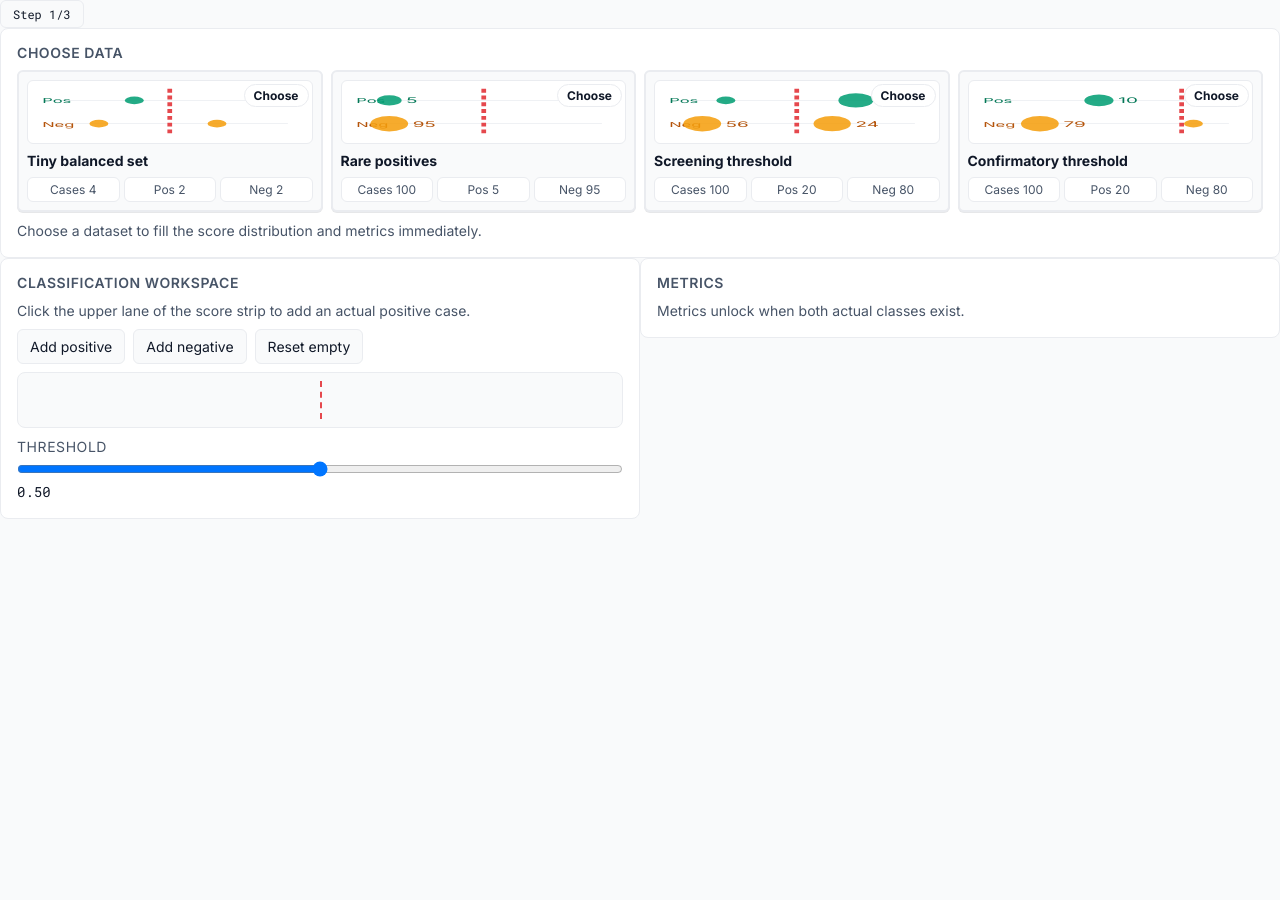
Test case: ClassificationPlayground › loads a row of presets and marks the active preset
Click the button "Choose Pos Neg 5 95 Rare positives Cases 100 Pos 5 Neg 95": (483, 141) x1=330 y1=70 x2=636 y2=212
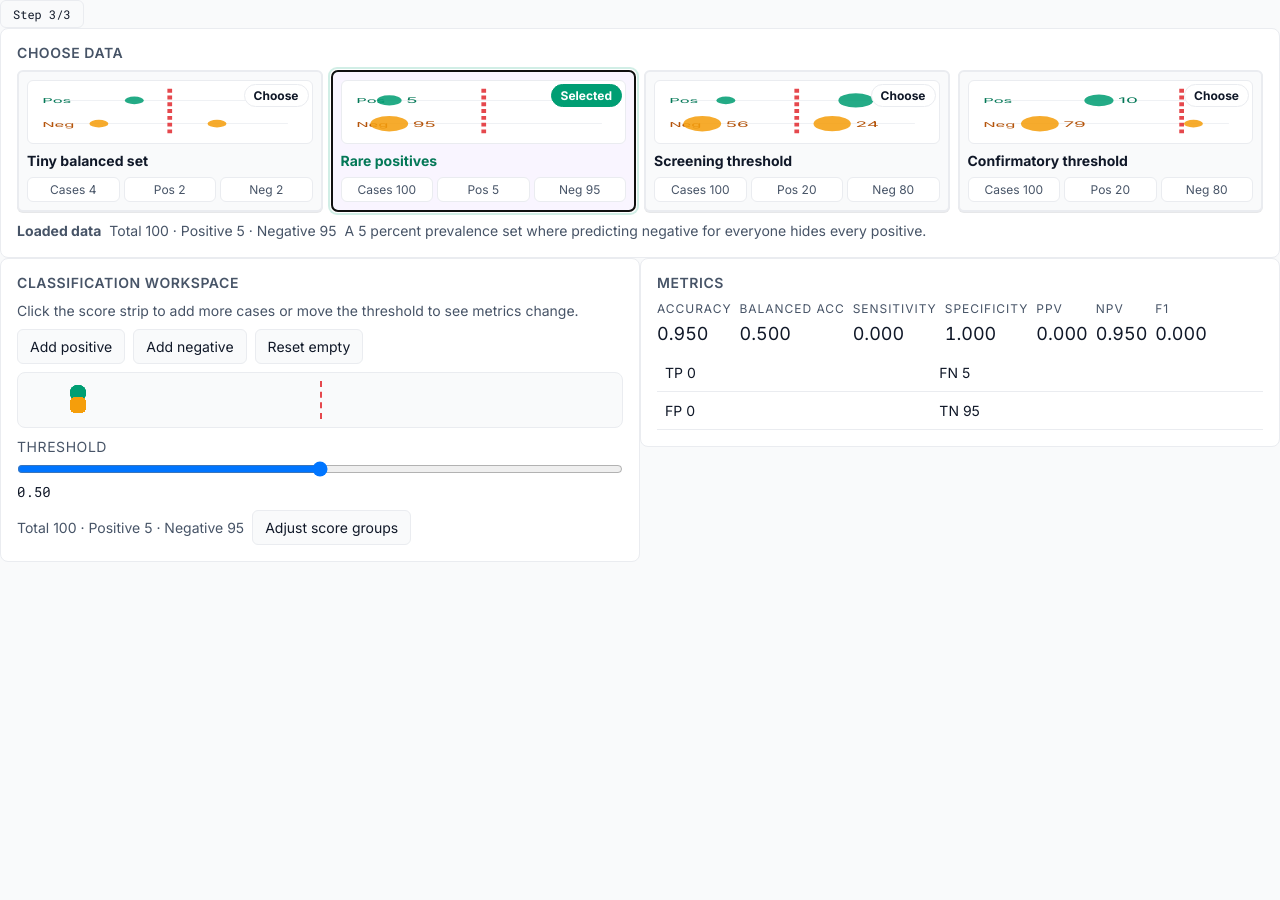
Check: the text "Selected" is shown, box x1=550 y1=84 x2=622 y2=107
Check: the text "5 percent prevalence" is shown, box x1=344 y1=222 x2=926 y2=239
Check: the text "Click the score strip to add more cases or move the threshold to see metrics change." is shown, box x1=17 y1=302 x2=579 y2=319
Click the button "Adjust score groups": (332, 527) x1=252 y1=510 x2=411 y2=545
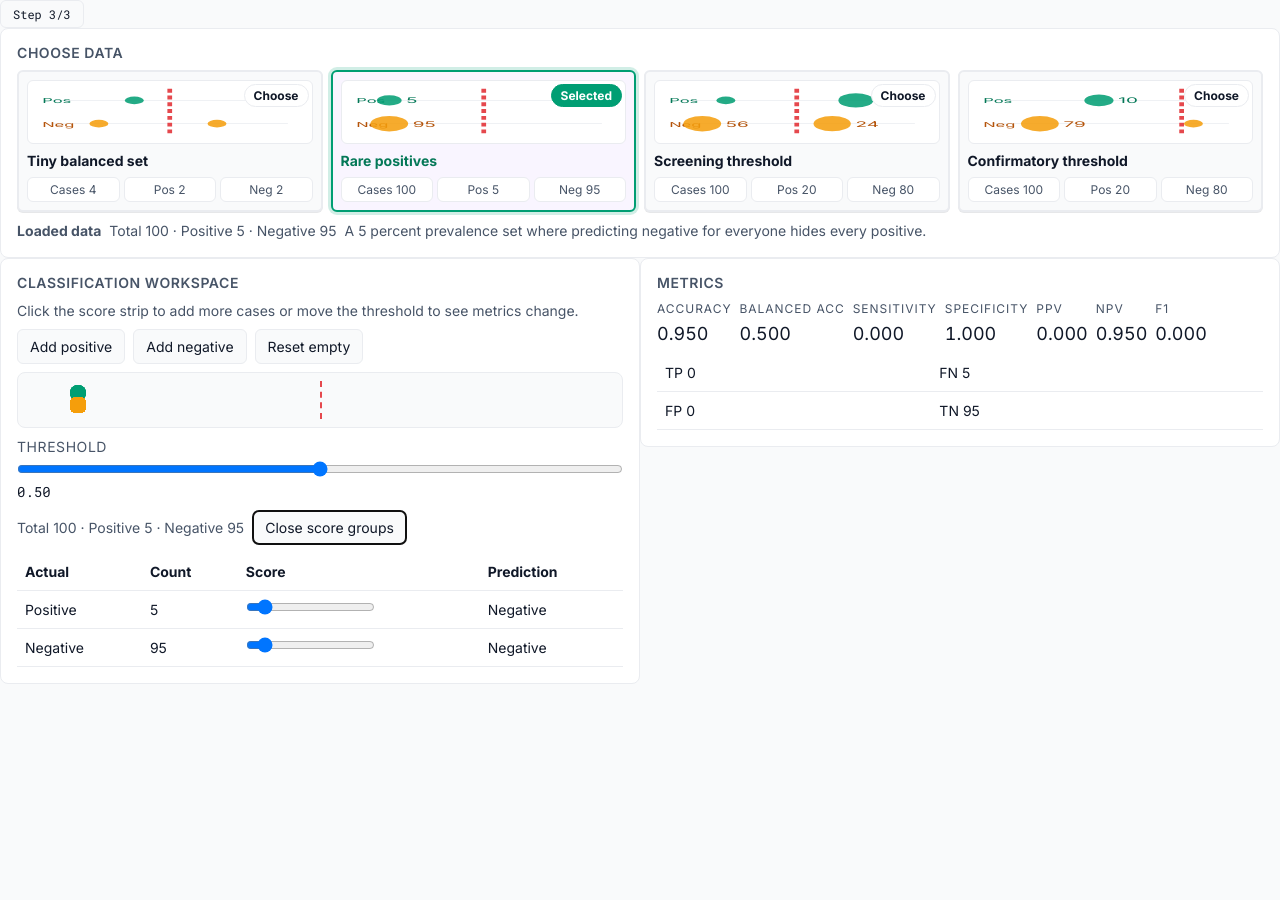
Check: the number of sliders is 3, box x1=17 y1=461 x2=623 y2=477; x1=246 y1=599 x2=375 y2=615; x1=246 y1=637 x2=375 y2=653
